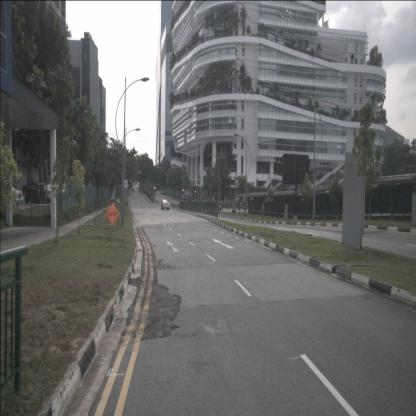human-pedestrian-adult: (112, 195, 115, 206), (117, 198, 120, 207), (110, 194, 112, 206)
vehicle-car: (0, 179, 24, 211), (25, 184, 46, 204), (44, 184, 62, 202), (108, 195, 120, 205), (160, 199, 170, 210)
